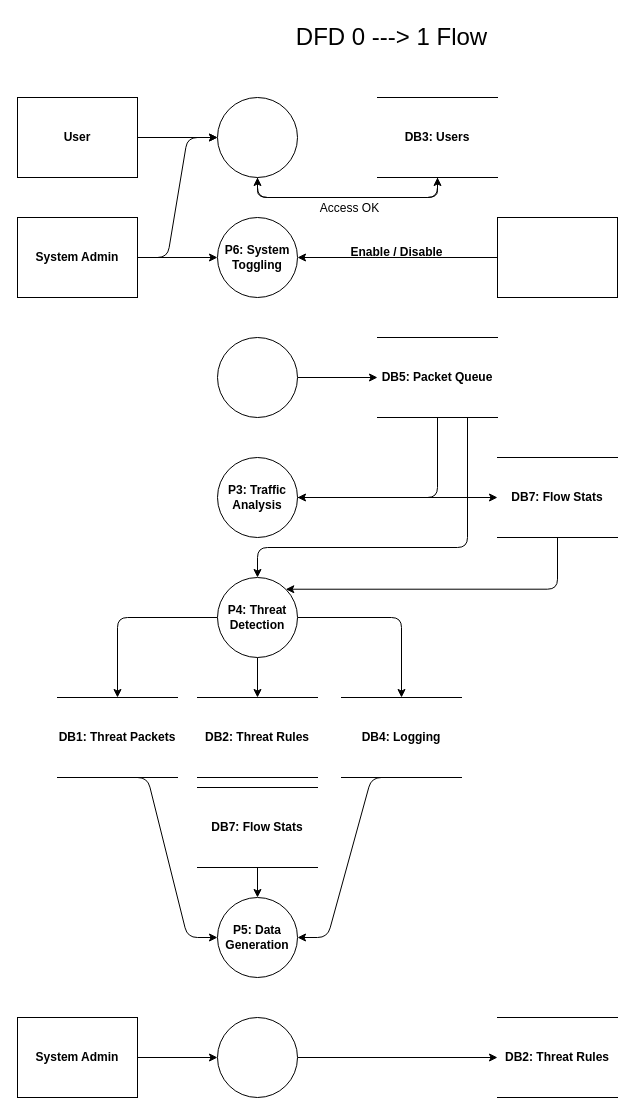
Some shapes in this 635 by 1115 pixel diagram are drawn without their labels. The shapes that lost their labels are listed below. From the top down, each one's centre as x and y in pixels, then its label:
At (257,137): "P1: User Login".
At (557,257): "User Interface".
At (257,377): "P2: Packet Capture".
At (257,1057): "P7: Custom Rules Management".
